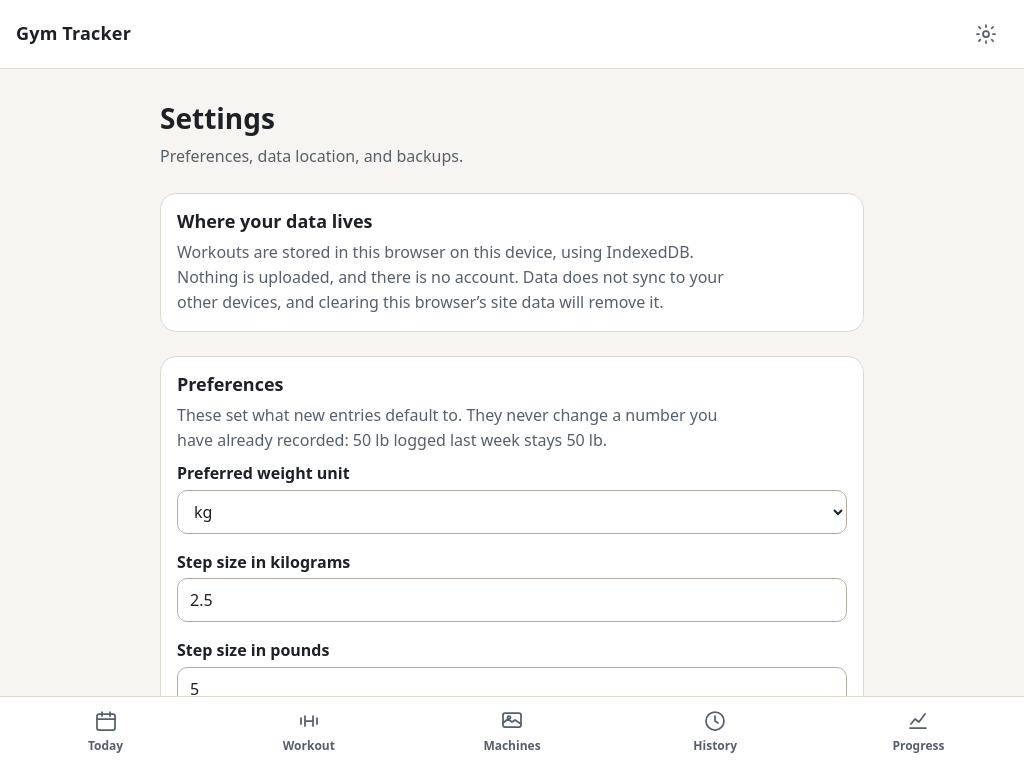
Test: rejecting an unusable preference › refuses a step size of zero and does not save
Check: the dropdown labelled "Preferred weight unit" is shown, box [177,490,847,534]
Replace the text in the field labelled "Step size in kilograms" with "0": (512, 600) [177,578,847,622]
(page scrolled)
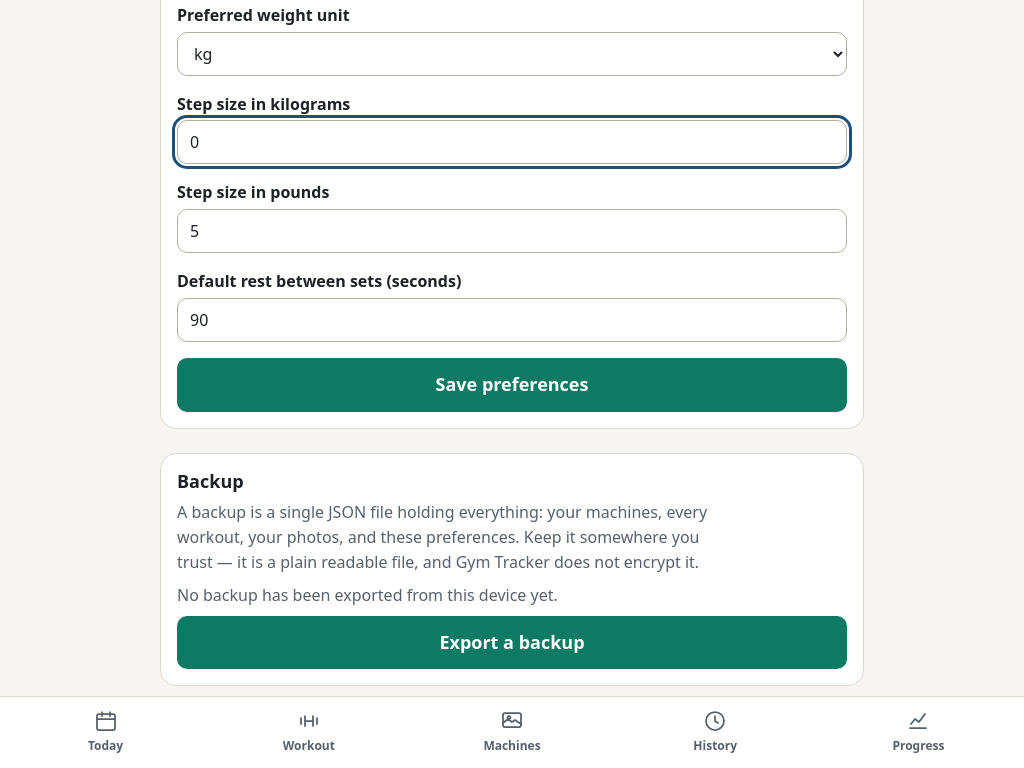
Click the button "Save preferences": click(512, 385) [177,358,847,412]
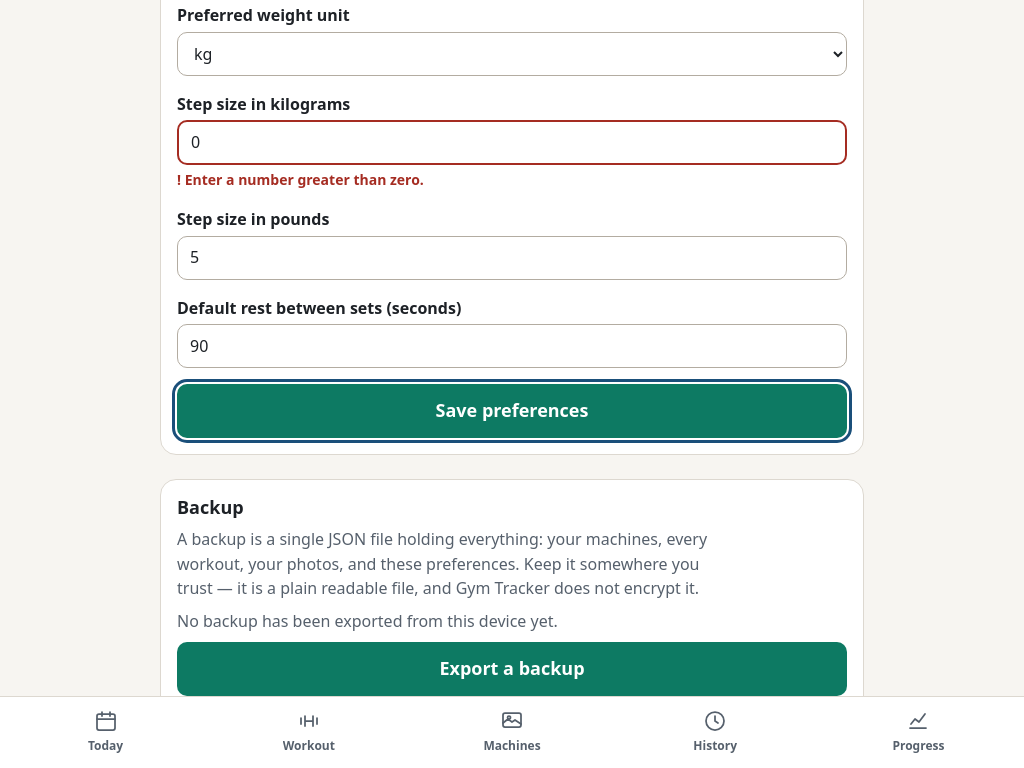
Check: the text "Enter a number greater than zero." is shown, box [185,170,424,189]
